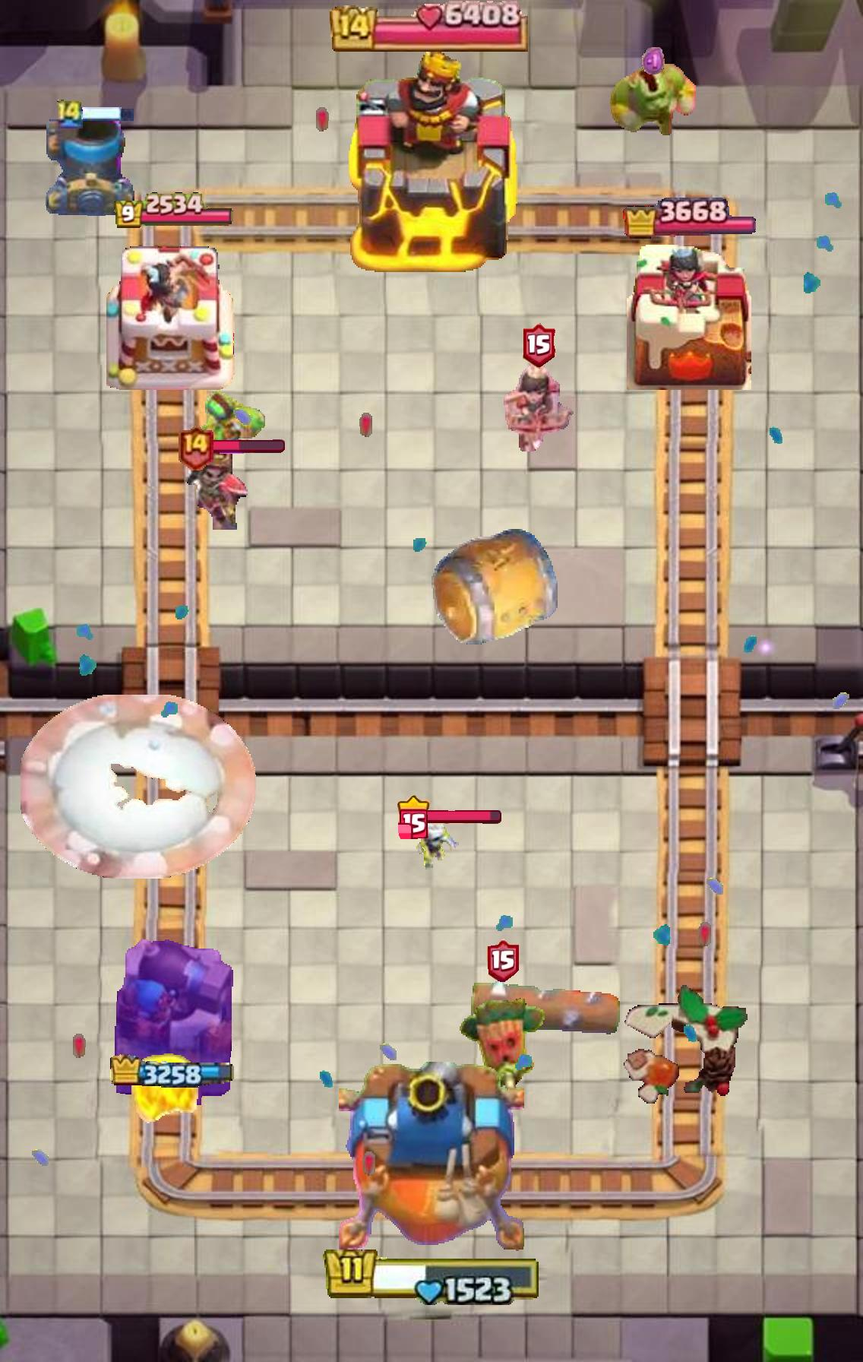elixir: (642, 45, 667, 76)
fireball: (122, 1044, 213, 1141)
the-log: (469, 979, 621, 1037)
